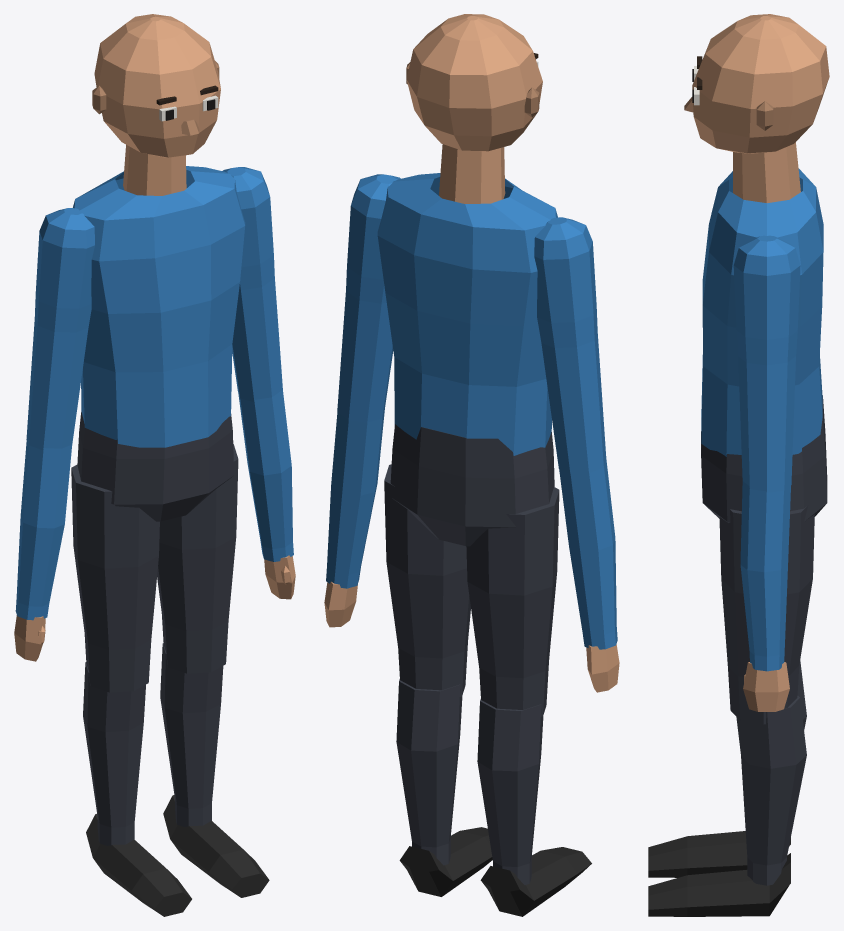
File: enfant_x_moyen.glb
3 renders of one model, left to right at view 1: azimuth 30°, elevation 25°; view 2: azimuth 150°, elevation 25°; view 3: azimuth 270°, elevation 25°, orthographic. The views are drawn at different scales.
Parts seen in each view (by area): view 1: torse, tete, jambe_d, bras_d, jambe_g, tibia_d, tibia_g, bassin, bras_g, avant_bras_d, avant_bras_g; view 2: torse, tete, jambe_d, bras_d, bassin, tibia_d, tibia_g, jambe_g, bras_g, avant_bras_d, avant_bras_g; view 3: tete, torse, tibia_g, bras_g, avant_bras_g, jambe_g, bassin, tibia_d.
Boxes of the visible parts, bbox=[...] form: torse: bbox=[73, 166, 245, 447]; tete: bbox=[92, 14, 220, 195]; jambe_d: bbox=[71, 465, 159, 692]; bras_d: bbox=[26, 208, 94, 450]; jambe_g: bbox=[157, 444, 238, 673]; tibia_d: bbox=[83, 662, 191, 916]; tibia_g: bbox=[160, 643, 269, 897]; bassin: bbox=[77, 412, 234, 521]; bras_g: bbox=[222, 167, 282, 401]; avant_bras_d: bbox=[14, 441, 72, 661]; avant_bras_g: bbox=[238, 390, 295, 599]; torse: bbox=[377, 173, 557, 455]; tete: bbox=[406, 14, 542, 203]; jambe_d: bbox=[466, 487, 559, 716]; bras_d: bbox=[534, 217, 606, 473]; bassin: bbox=[390, 424, 554, 546]; tibia_d: bbox=[477, 699, 591, 916]; tibia_g: bbox=[396, 679, 492, 896]; jambe_g: bbox=[384, 464, 470, 696]; bras_g: bbox=[337, 174, 400, 422]; avant_bras_d: bbox=[559, 459, 619, 692]; avant_bras_g: bbox=[324, 409, 384, 627]; tete: bbox=[684, 14, 829, 203]; torse: bbox=[701, 168, 823, 456]; tibia_g: bbox=[648, 695, 806, 916]; bras_g: bbox=[733, 235, 800, 492]; avant_bras_g: bbox=[740, 481, 790, 711]; jambe_g: bbox=[719, 505, 814, 724]; bassin: bbox=[701, 395, 827, 522]; tibia_d: bbox=[648, 660, 806, 877].
Bounding box in the file's own units: 0.4626 × 1.36 × 0.2553.
Materials: 1 (1 with a texture image).
